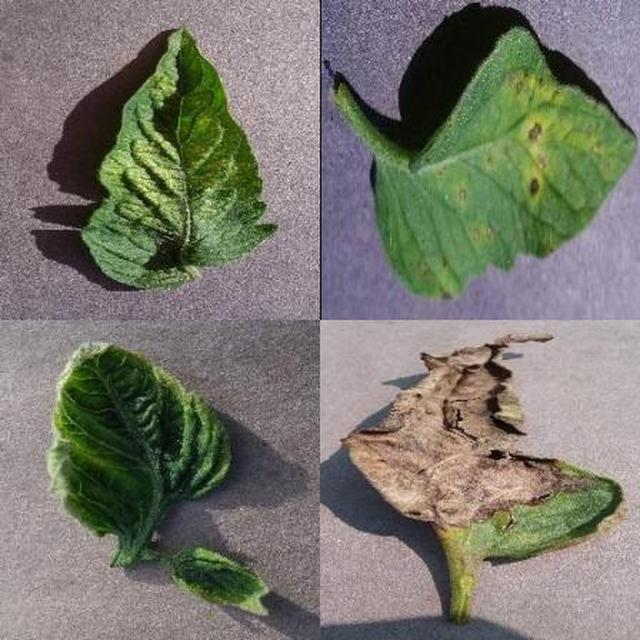Spider Mites Leaf: (140, 106, 640, 640)
